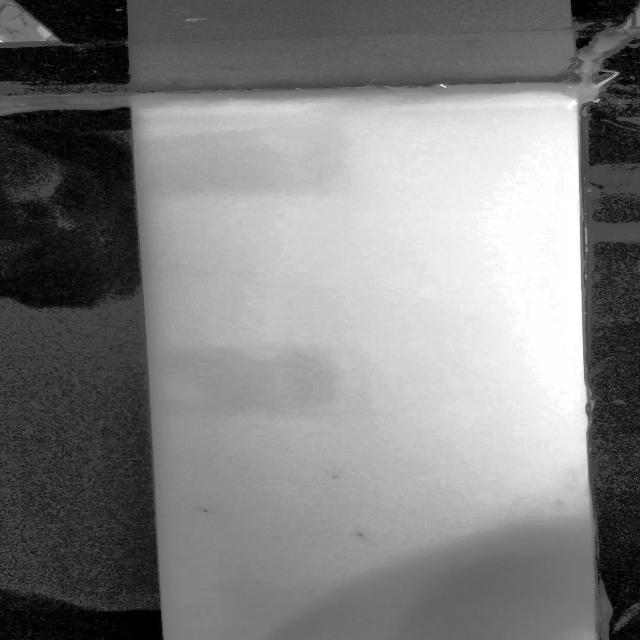shrimp: (189, 504, 222, 520), (344, 525, 372, 539)
